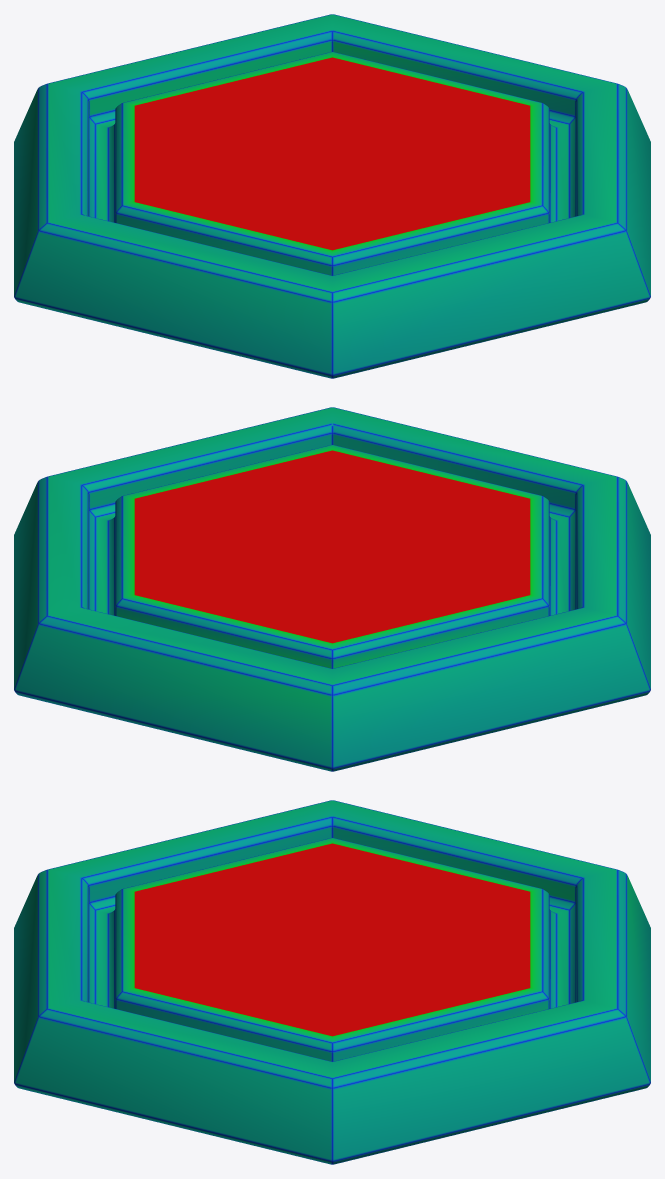
File: Platform01.fbx
3 views of the same model, one above another, from view 1: azimuth 30°, elevation 25°; view 2: azimuth 150°, elevation 25°; view 3: azimuth 270°, elevation 25° (orthographic).
Visible parts, largest first — view 1: Vert.015; view 2: Vert.015; view 3: Vert.015.
Boxes of the visible parts, left/top/right/bottom form: Vert.015: left=14, top=14, right=650, bottom=378; Vert.015: left=14, top=407, right=650, bottom=771; Vert.015: left=14, top=800, right=650, bottom=1164.
Bounding box in the file's own units: 137 × 15 × 119.
